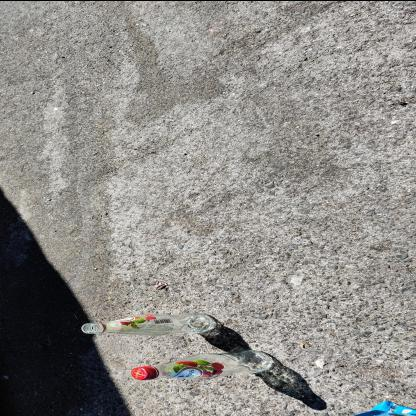cam: (133, 350, 274, 381), (82, 312, 215, 336)
